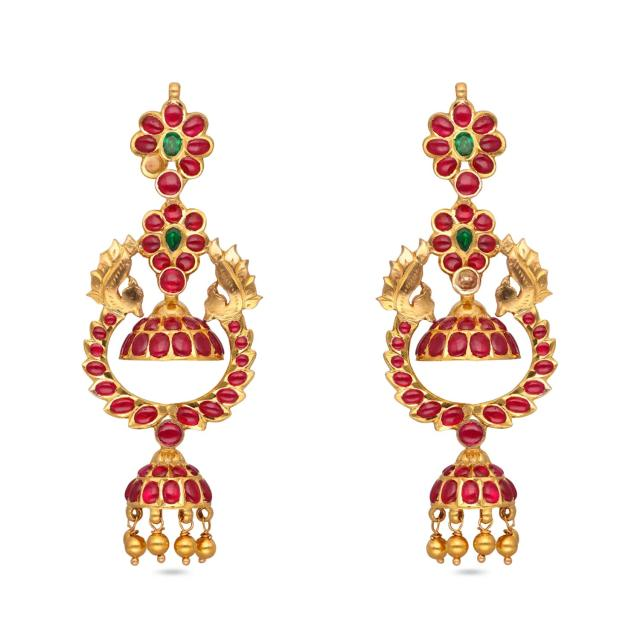missing gem: (456, 269, 478, 290), (145, 155, 165, 174)
